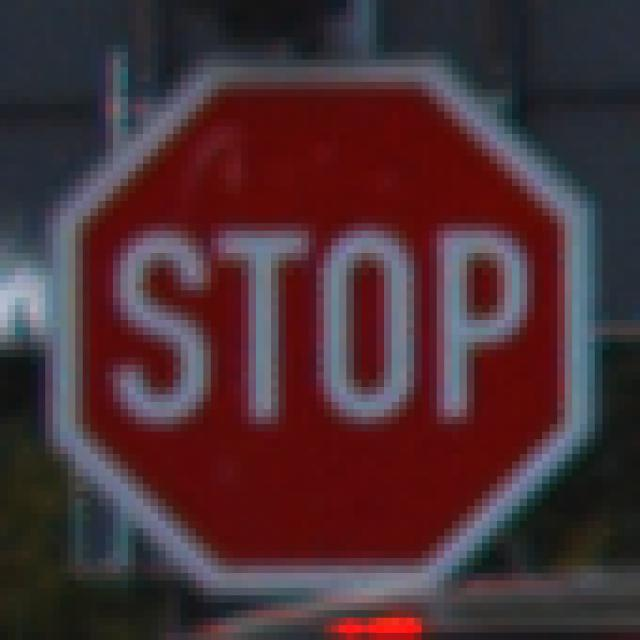STOP: (54, 60, 588, 589)
